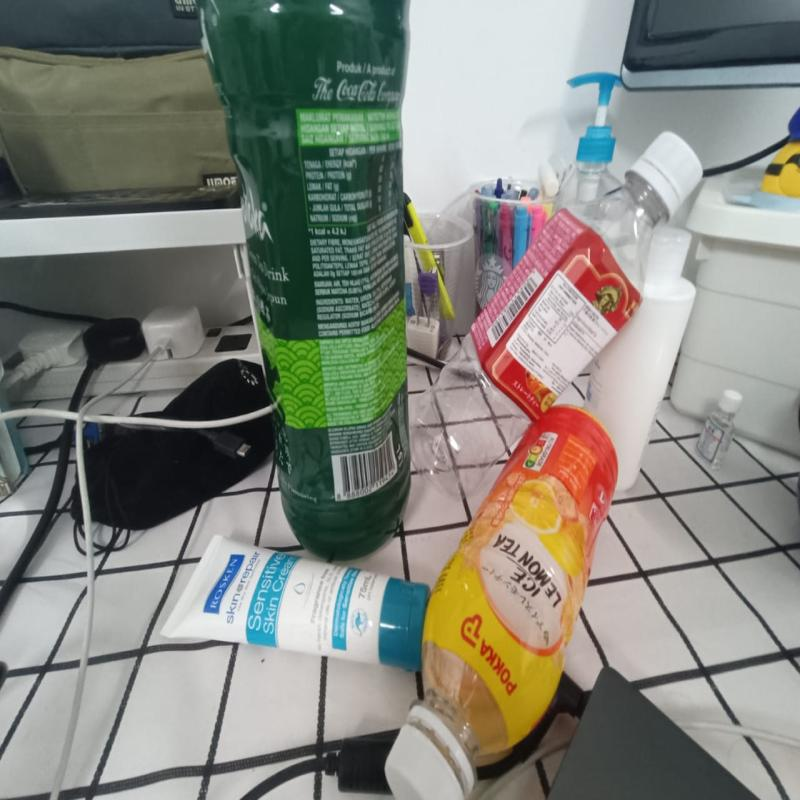botella: (194, 0, 416, 561), (419, 121, 701, 511), (384, 408, 619, 800)
